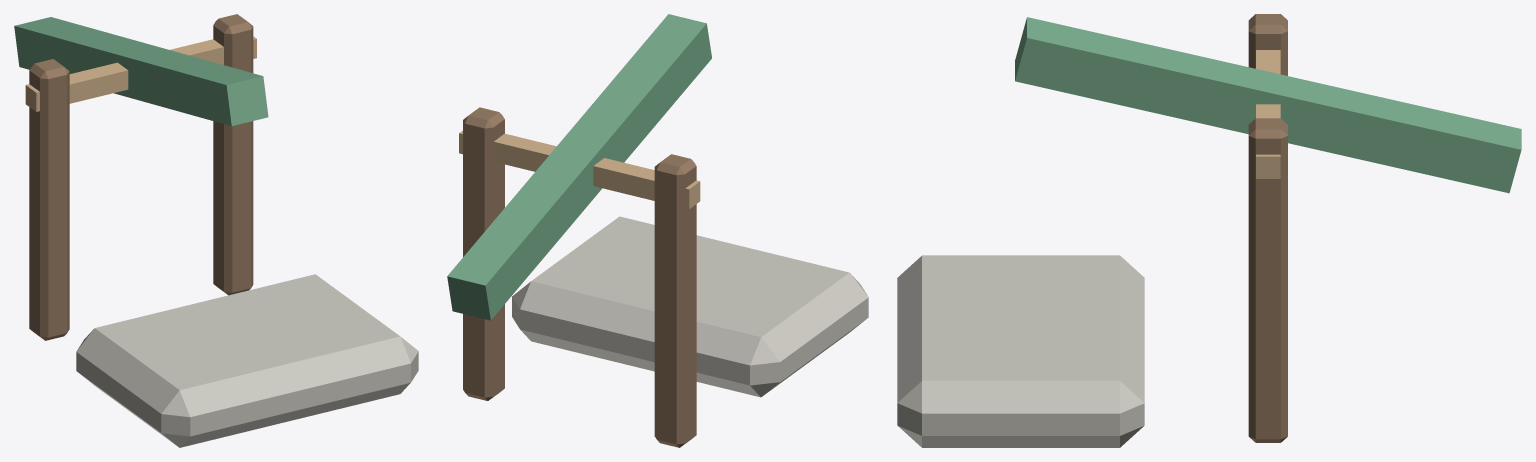
The model's file is feudal-japan-castle-town-deer-scarer-e87410e8__26405.glb.
3 views of the same model, side by side, from view 1: azimuth 30°, elevation 25°; view 2: azimuth 150°, elevation 25°; view 3: azimuth 270°, elevation 25° (orthographic). The views are drawn at different scales.
Parts seen in each view (by area): view 1: deer-scarer; view 2: deer-scarer; view 3: deer-scarer.
Part boxes in pixels (x1,y1,x2,y2): deer-scarer: [14, 14, 418, 447]; deer-scarer: [447, 14, 868, 447]; deer-scarer: [897, 14, 1521, 447].
Bounding box in the file's own units: 0.7 × 0.7985 × 1.26.
